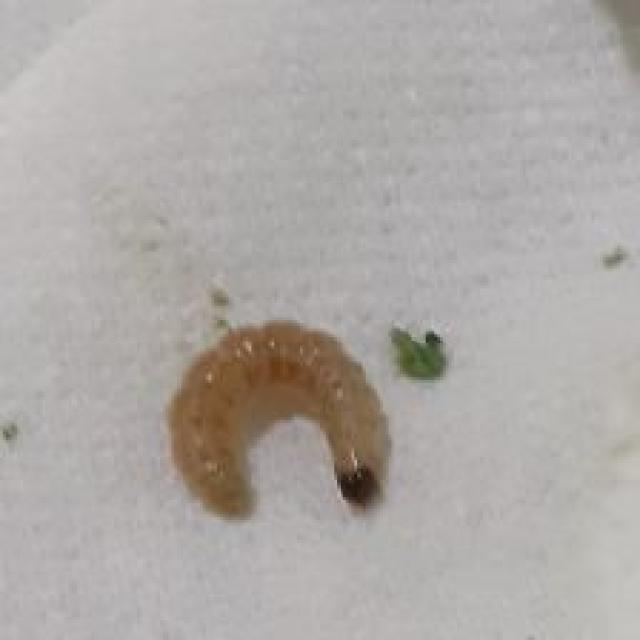white mucus: (133, 322, 400, 533)
